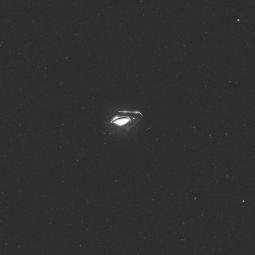proba_3_ocs: (90, 97, 148, 142)
